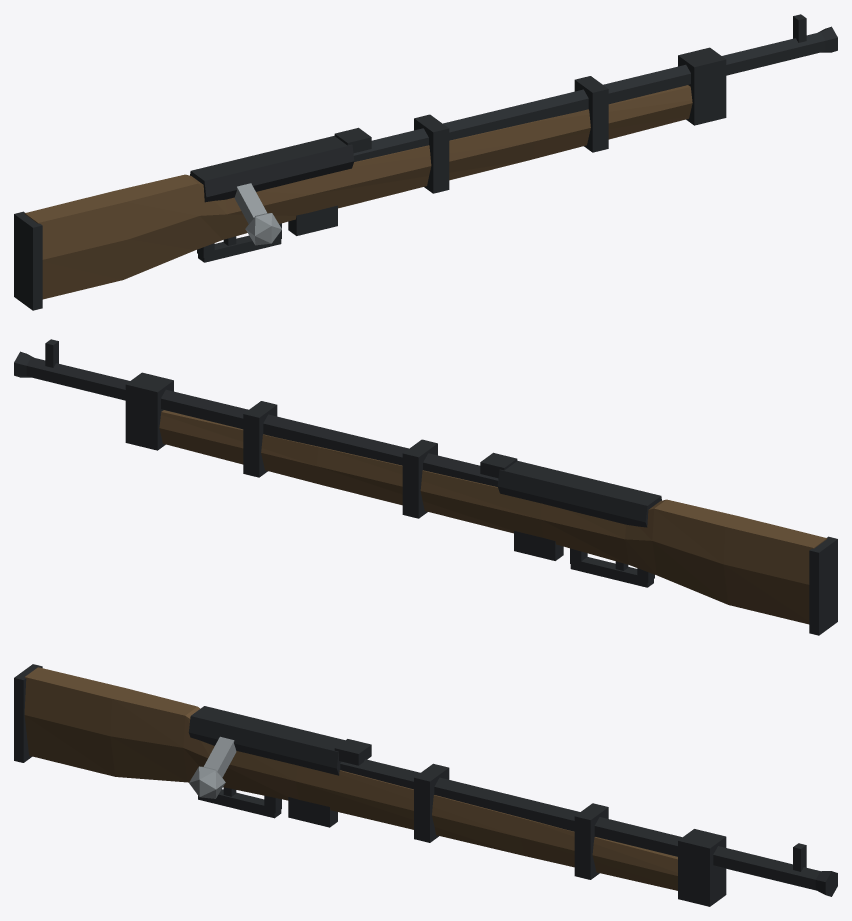
Rendered from righthand-item-6c7ff0.glb.
The picture shows the model from 3 angles, top to bottom: view 1: azimuth 30°, elevation 25°; view 2: azimuth 150°, elevation 25°; view 3: azimuth 330°, elevation 25°; orthographic projection.
Parts seen in each view (by area): view 1: service-rifle; view 2: service-rifle; view 3: service-rifle.
Boxes of the visible parts, x1=… form: service-rifle: x1=14, y1=14, x2=837, y2=310; service-rifle: x1=14, y1=339, x2=837, y2=635; service-rifle: x1=14, y1=664, x2=837, y2=906.
Size of the model in its own units: 1.01 by 0.116 by 0.0987.
